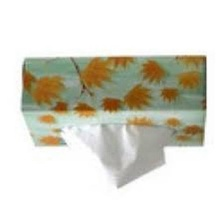book: (15, 50, 212, 153)
tissue: (55, 118, 171, 194)
